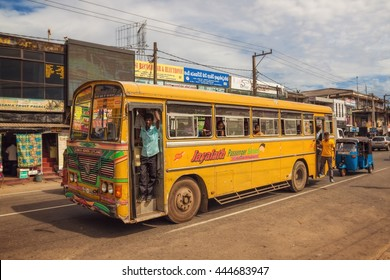bus: (61, 80, 336, 225)
threewheel: (334, 137, 374, 176)
